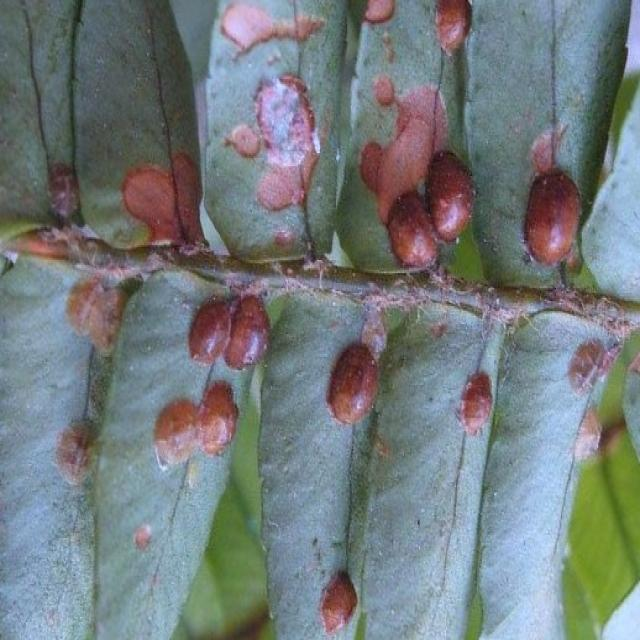BlackScale: (388, 152, 473, 266), (153, 382, 237, 462), (189, 294, 269, 374), (526, 170, 577, 264), (329, 342, 373, 423), (320, 574, 357, 632), (464, 372, 491, 433), (438, 2, 470, 52)
